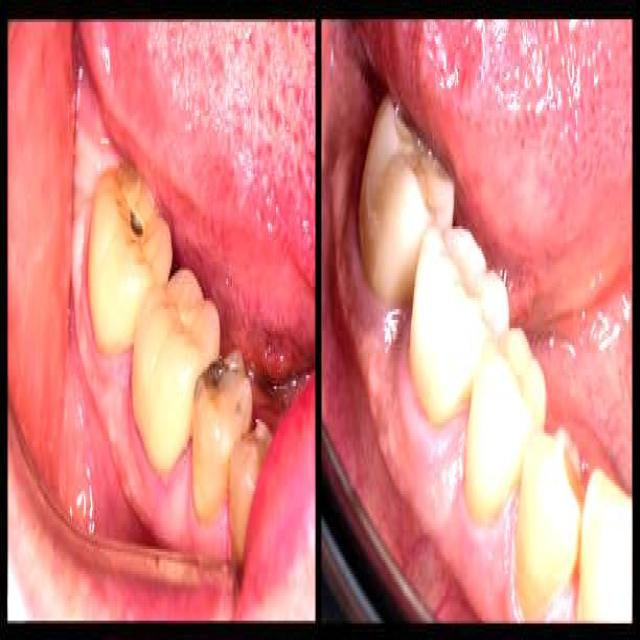caries: (118, 175, 156, 267), (190, 334, 230, 416), (234, 382, 270, 471)
